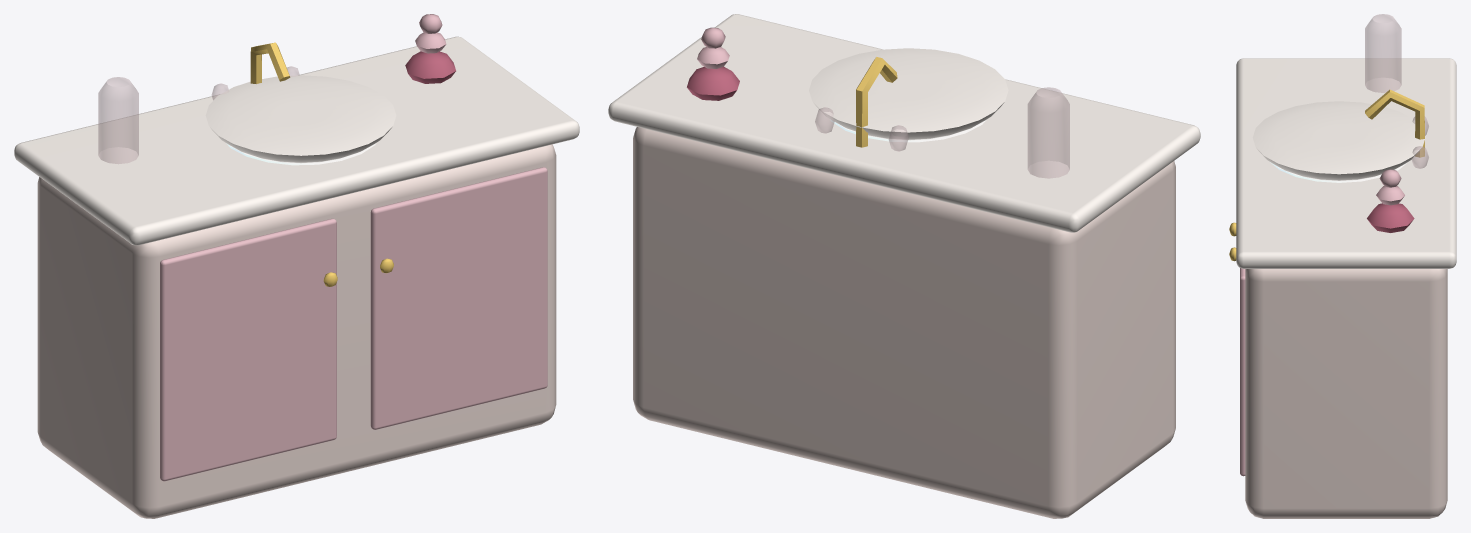
Rendered from bath_vanity_sink.glb.
3 views of the same model, side by side, from view 1: azimuth 30°, elevation 25°; view 2: azimuth 150°, elevation 25°; view 3: azimuth 270°, elevation 25° (orthographic). The views are drawn at different scales.
Visible parts, largest first — view 1: bath_vanity_sink; view 2: bath_vanity_sink; view 3: bath_vanity_sink.
Boxes of the visible parts, box(x1,y1,x2,y2) form: bath_vanity_sink: box(14, 14, 579, 518); bath_vanity_sink: box(608, 14, 1200, 518); bath_vanity_sink: box(1229, 14, 1456, 518).
Bounding box in the file's own units: 1.28 × 1.03 × 0.619.
